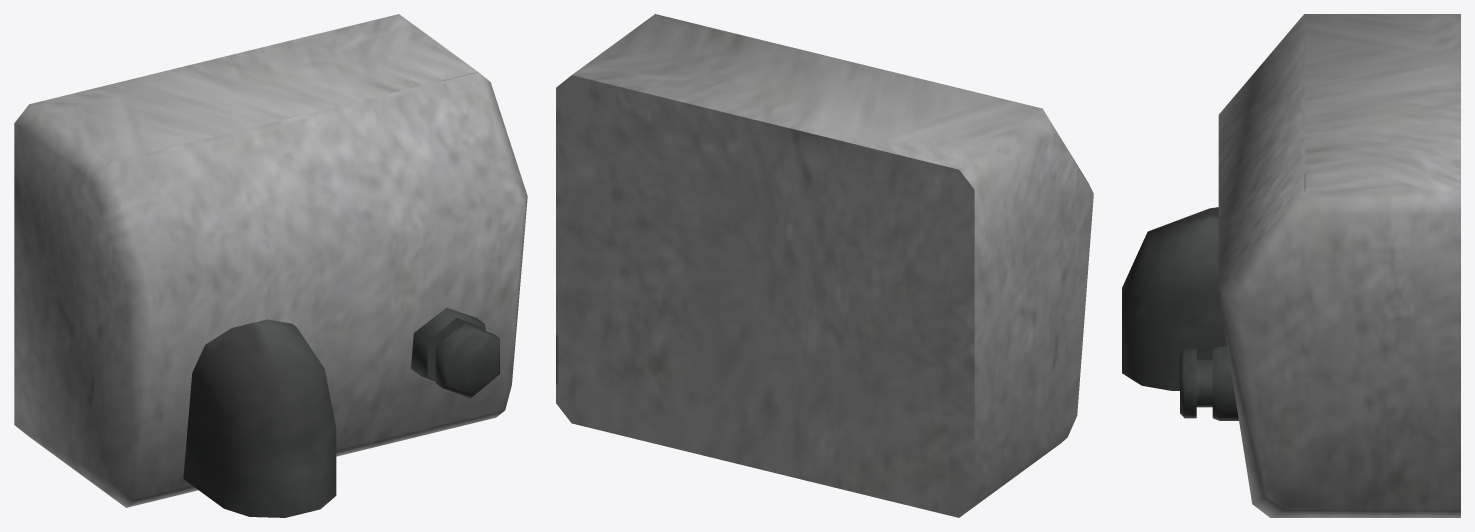
The model's file is HandDryer.glb.
The picture shows the model from 3 angles, left to right: view 1: azimuth 30°, elevation 25°; view 2: azimuth 150°, elevation 25°; view 3: azimuth 270°, elevation 25°; orthographic projection. The views are drawn at different scales.
Parts seen in each view (by area): view 1: Hand_dryer; view 2: Hand_dryer; view 3: Hand_dryer.
Part boxes in pixels (x1,y1,x2,y2): Hand_dryer: (14, 14, 527, 517); Hand_dryer: (556, 14, 1093, 517); Hand_dryer: (1122, 14, 1460, 517).
Size of the model in its own units: 0.6572 by 0.5227 by 0.4914.
Materials: 1 (1 with a texture image).
